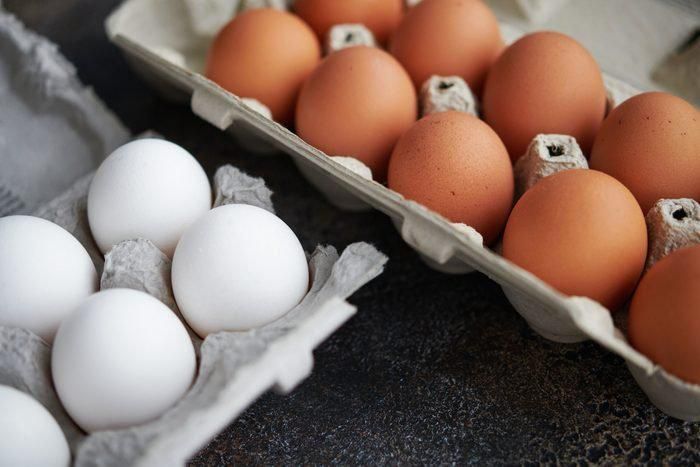egg: (48, 281, 207, 441), (500, 159, 652, 316), (382, 102, 520, 251), (168, 198, 313, 338), (85, 133, 220, 270), (289, 37, 422, 172), (483, 29, 605, 161), (201, 2, 326, 124), (0, 213, 101, 338), (594, 90, 700, 208), (389, 0, 505, 95), (630, 244, 700, 390)
